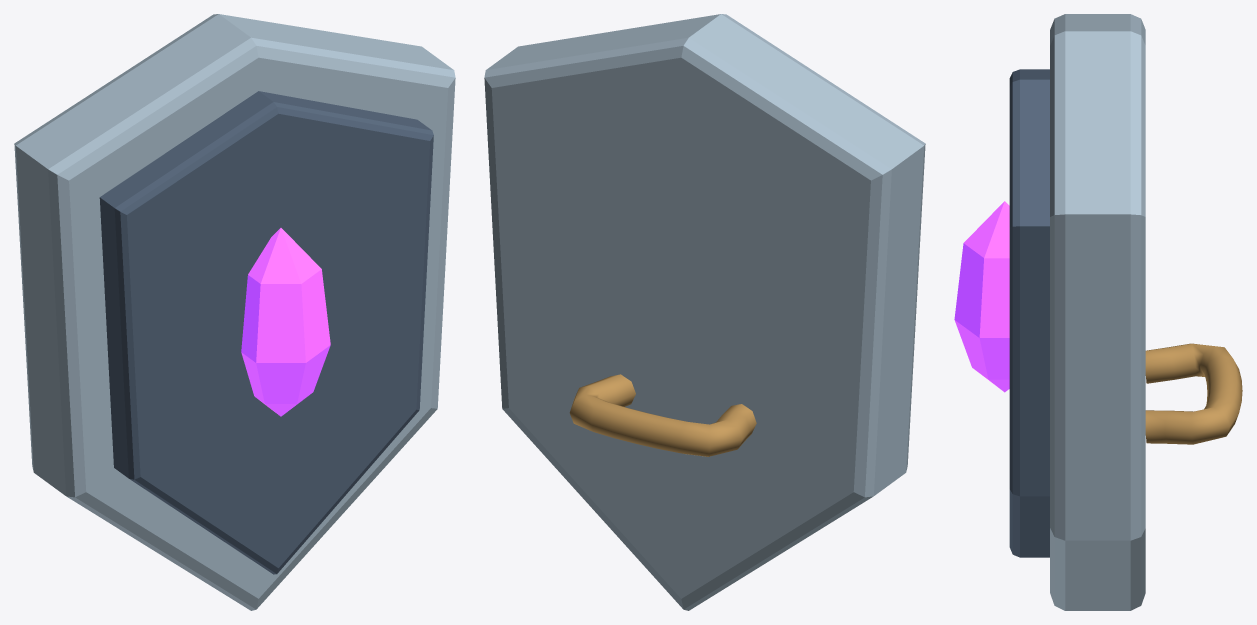
The model's file is sentinel_shield.glb.
3 renders of one model, left to right at view 1: azimuth 30°, elevation 25°; view 2: azimuth 150°, elevation 25°; view 3: azimuth 270°, elevation 25°, orthographic.
Parts seen in each view (by area): view 1: sentinel-kite-shield; view 2: sentinel-kite-shield; view 3: sentinel-kite-shield.
Part boxes in pixels (x1,y1,x2,y2): sentinel-kite-shield: [14, 14, 455, 610]; sentinel-kite-shield: [484, 14, 925, 610]; sentinel-kite-shield: [954, 14, 1242, 610].
Size of the model in its own units: 0.9424 by 1.27 by 0.5724.
